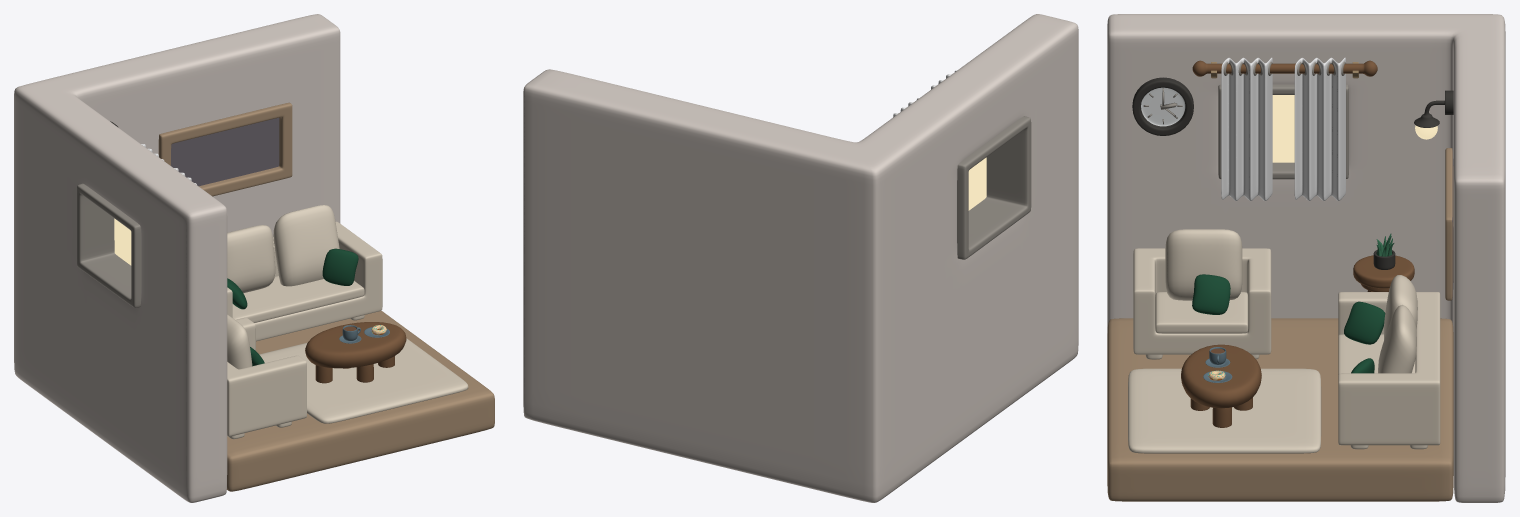
The model's file is home.glb.
3 views of the same model, side by side, from view 1: azimuth 30°, elevation 25°; view 2: azimuth 150°, elevation 25°; view 3: azimuth 270°, elevation 25° (orthographic). The views are drawn at different scales.
Visible parts, largest first — view 1: Wall, Floor, Frame, Couch, Rug, Window, Mini couch, Cushion 2, Coffee table, Cushion, Cube.001, Cushion.001; view 2: Wall, Window; view 3: Wall, Floor, Rug, Couch, Mini couch, Curtain, Curtain.001, Cushion.001, Coffee table, Window, Clock, Cushion 2 (+7 smaller).
Boxes of the visible parts, box(x1,y1,x2,y2) form: Wall: box(14, 14, 340, 502); Floor: box(227, 310, 494, 491); Frame: box(158, 102, 292, 196); Couch: box(227, 221, 382, 341); Rug: box(259, 338, 468, 423); Window: box(77, 183, 140, 307); Mini couch: box(227, 317, 306, 436); Cushion 2: box(273, 205, 339, 286); Coffee table: box(305, 322, 406, 383); Cushion: box(227, 225, 275, 293); Cube.001: box(322, 248, 358, 285); Cushion.001: box(227, 314, 252, 369); Wall: box(523, 14, 1078, 502); Window: box(957, 116, 1031, 259); Wall: box(1107, 14, 1505, 502); Floor: box(1107, 318, 1453, 501); Rug: box(1128, 368, 1321, 453); Couch: box(1338, 292, 1440, 445); Mini couch: box(1133, 248, 1271, 354); Curtain: box(1221, 57, 1272, 200); Curtain.001: box(1294, 57, 1345, 200); Cushion.001: box(1165, 229, 1242, 300); Coffee table: box(1181, 344, 1261, 427); Window: box(1218, 84, 1348, 179); Clock: box(1132, 77, 1193, 135); Cushion 2: box(1378, 305, 1416, 373).
Size of the model in its own units: 3.58 by 3.16 by 3.51.
